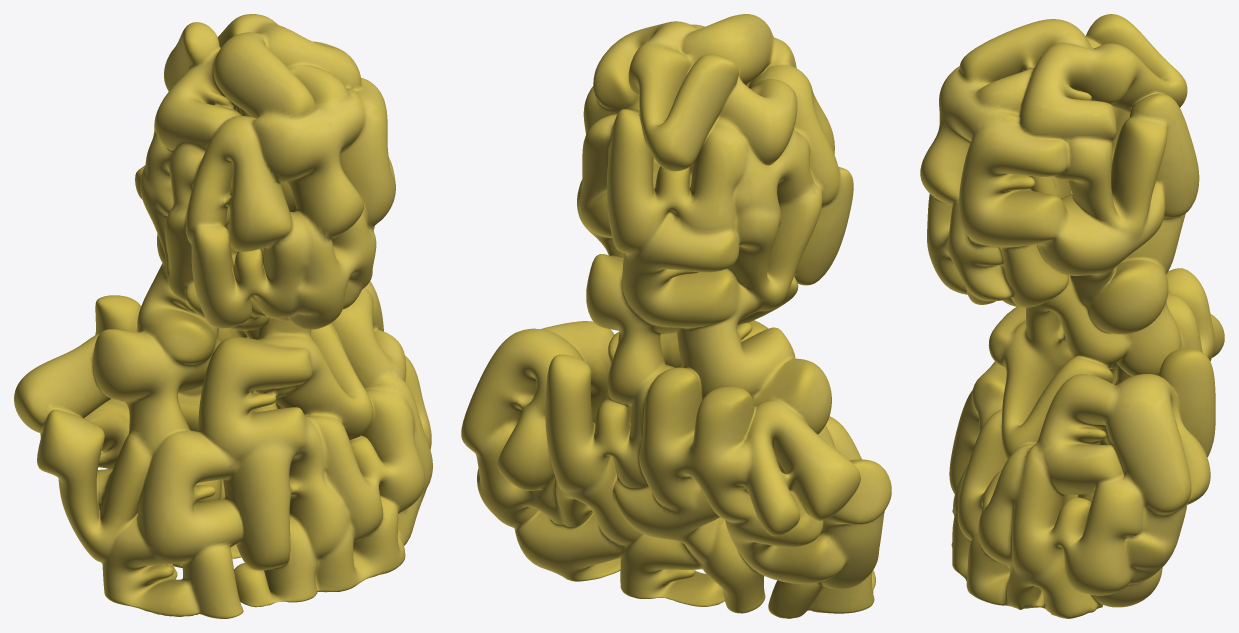
The model's file is 7fd1b0d9-9928-42e5-bb60-b09b90d25714-356935f5-2d1c-43ca-a985-74b0d23dea9d-whatever buste 5.glb.
3 renders of one model, left to right at view 1: azimuth 30°, elevation 25°; view 2: azimuth 150°, elevation 25°; view 3: azimuth 270°, elevation 25°, orthographic. The views are drawn at different scales.
Parts seen in each view (by area): view 1: Whatever buste 5; view 2: Whatever buste 5; view 3: Whatever buste 5.
Part boxes in pixels (<box>): Whatever buste 5: <box>14,14,432,618</box>; Whatever buste 5: <box>461,14,891,618</box>; Whatever buste 5: <box>920,14,1224,618</box>.
Bounding box in the file's own units: 2.74 × 3.6 × 1.91.
1 material, 1 textured.
